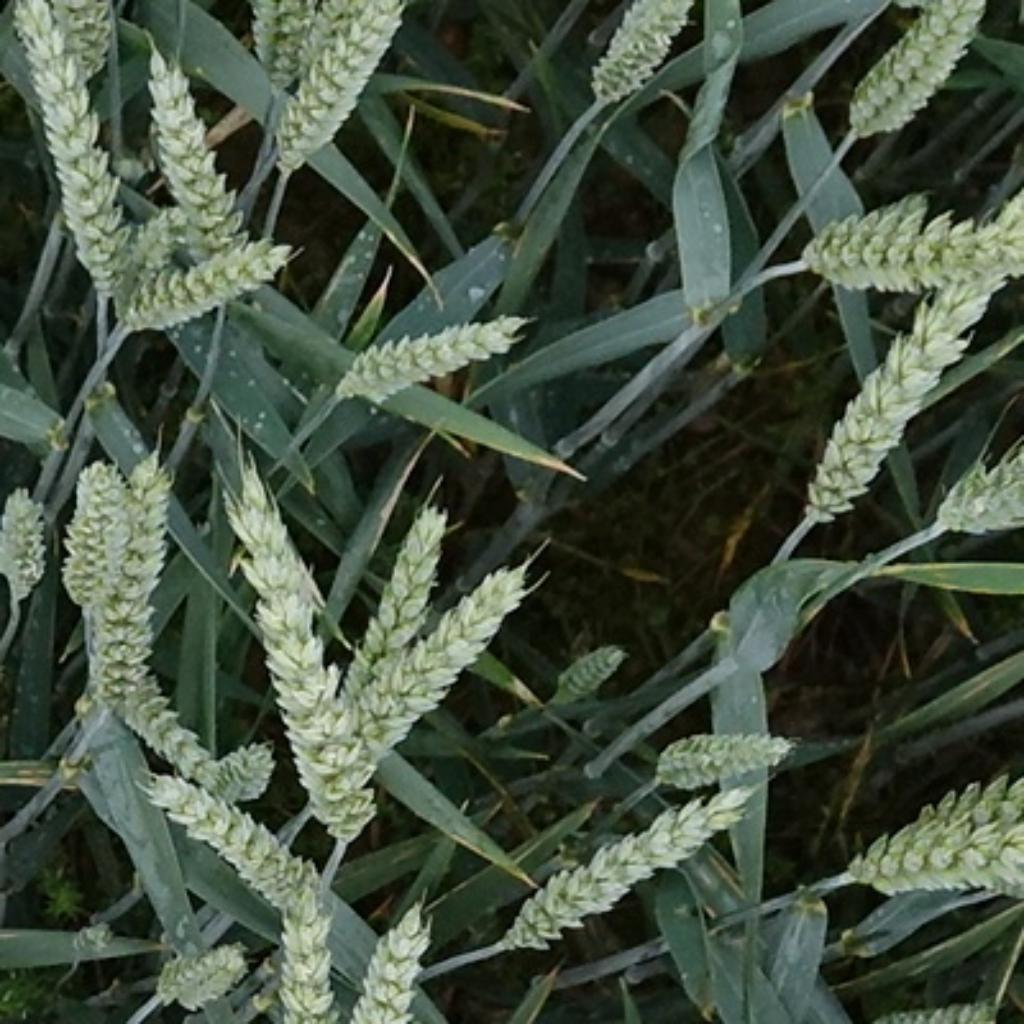0-0: (232, 448, 381, 849), (794, 280, 1010, 533), (494, 785, 769, 959), (0, 2, 149, 311), (379, 535, 524, 772), (151, 773, 332, 916), (785, 194, 1021, 302), (831, 2, 993, 156), (327, 300, 540, 415), (135, 46, 256, 243), (279, 2, 414, 163), (92, 445, 166, 711), (875, 767, 1020, 900), (84, 629, 222, 768), (123, 238, 306, 341), (368, 483, 461, 668), (317, 903, 437, 1024), (576, 2, 696, 102), (240, 913, 348, 1024), (637, 714, 796, 785), (64, 460, 128, 614), (925, 448, 1024, 543), (106, 208, 206, 294), (547, 624, 638, 710), (147, 938, 249, 1012), (0, 486, 53, 603), (852, 985, 1006, 1024), (58, 2, 124, 87), (194, 734, 273, 796), (248, 2, 310, 70), (70, 910, 121, 962)
